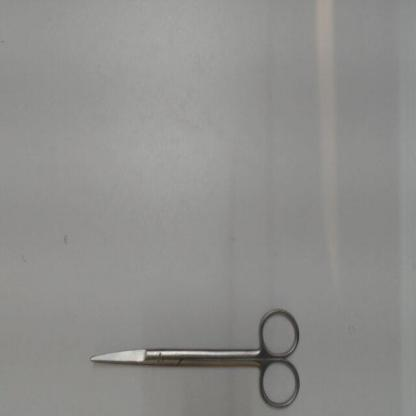Curved Mayo Scissors: (83, 302, 306, 414)
